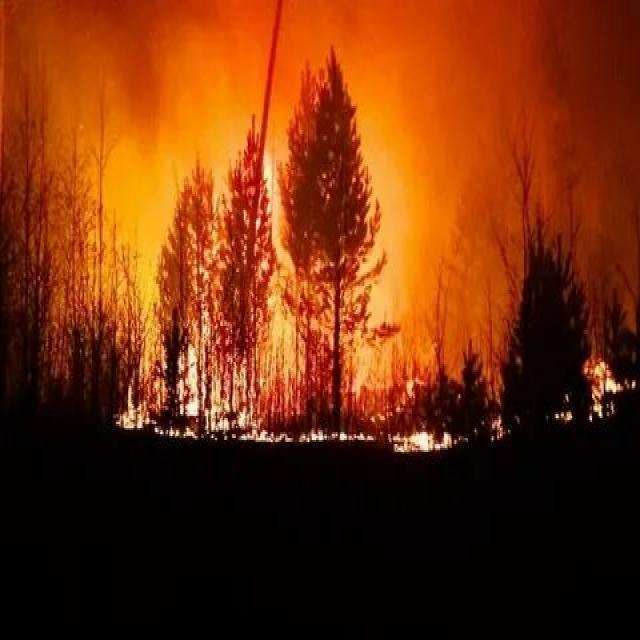Fire: (106, 332, 492, 509), (548, 332, 638, 444)
